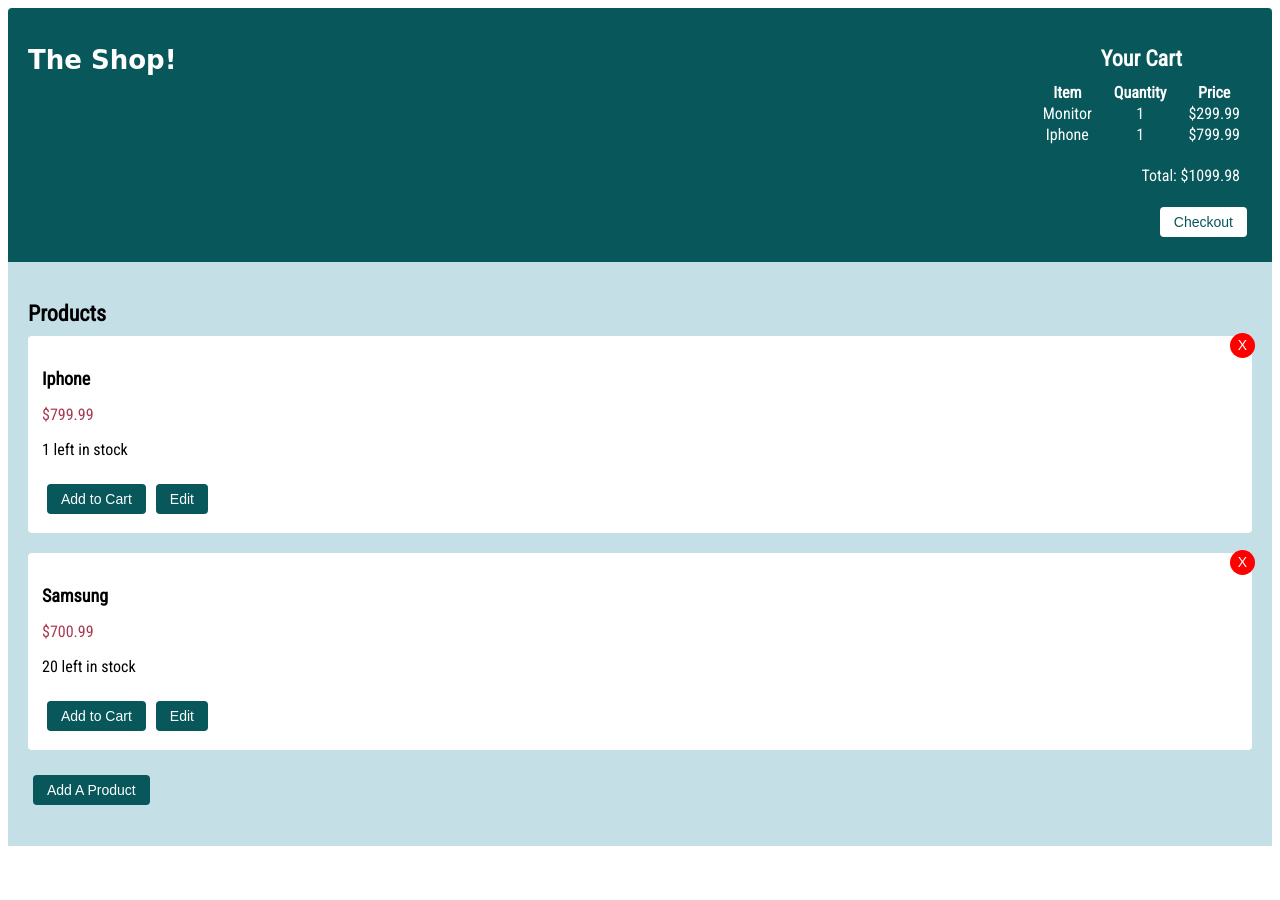
Test case: Clicking 'Add to cart' updates both the cart and product listing
Click the 1st button "Add to Cart" at [96, 498], box [47,484,146,514]
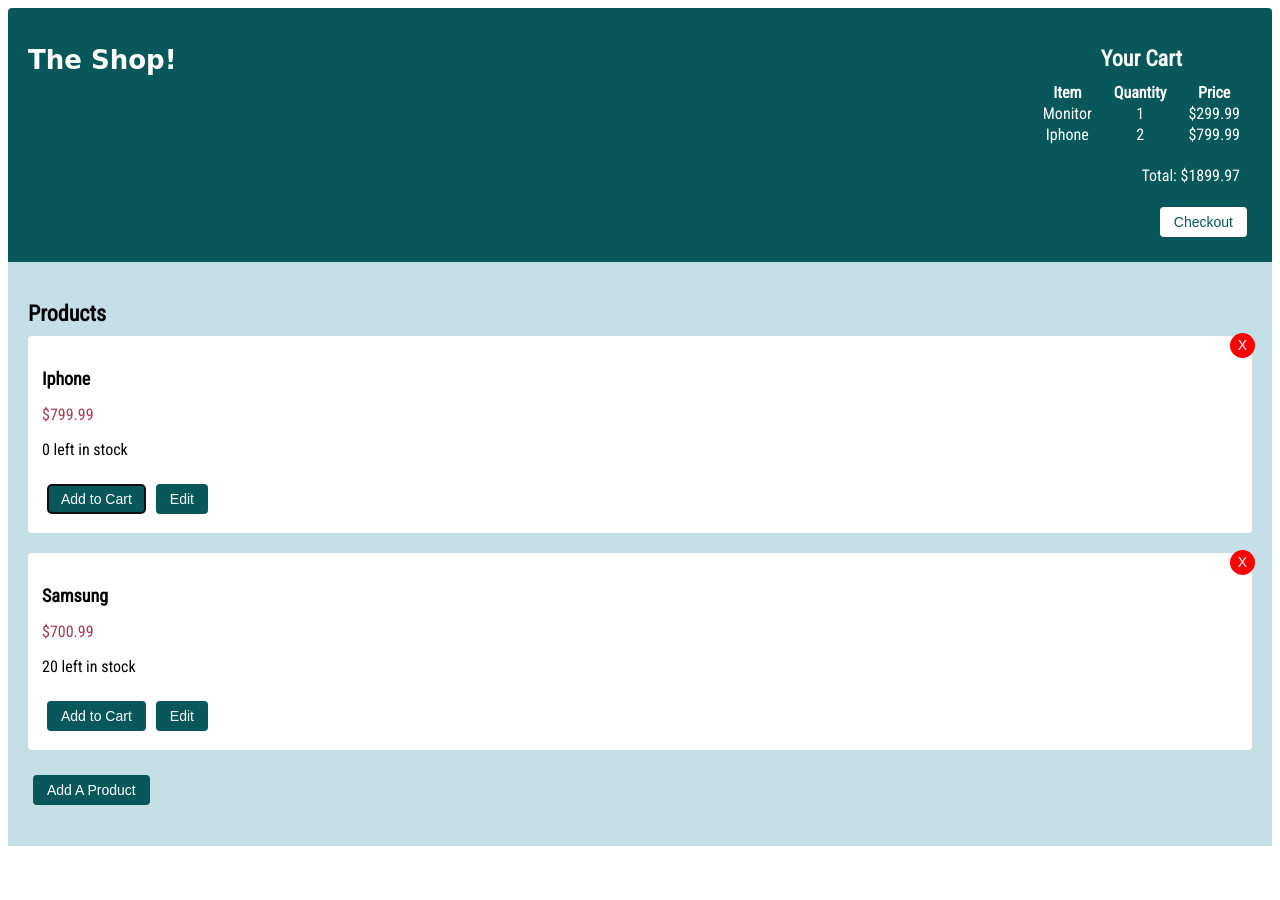
Now the text "2" is shown, box [1104,125,1176,144]
